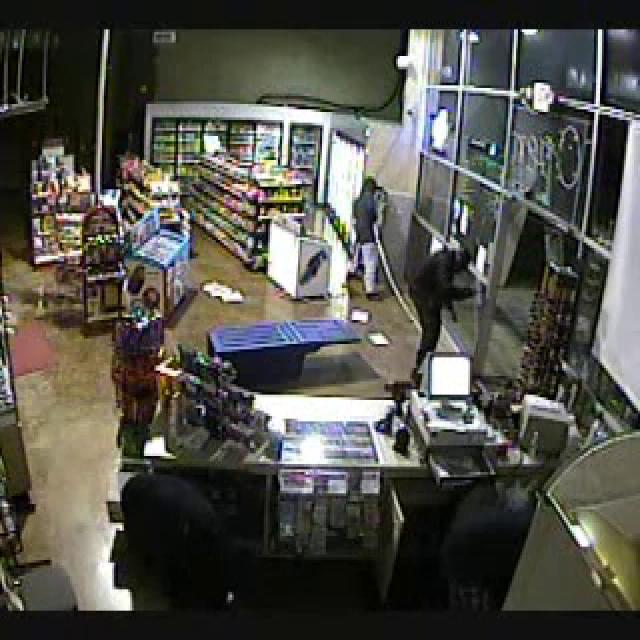burglary: (190, 60, 526, 448)
